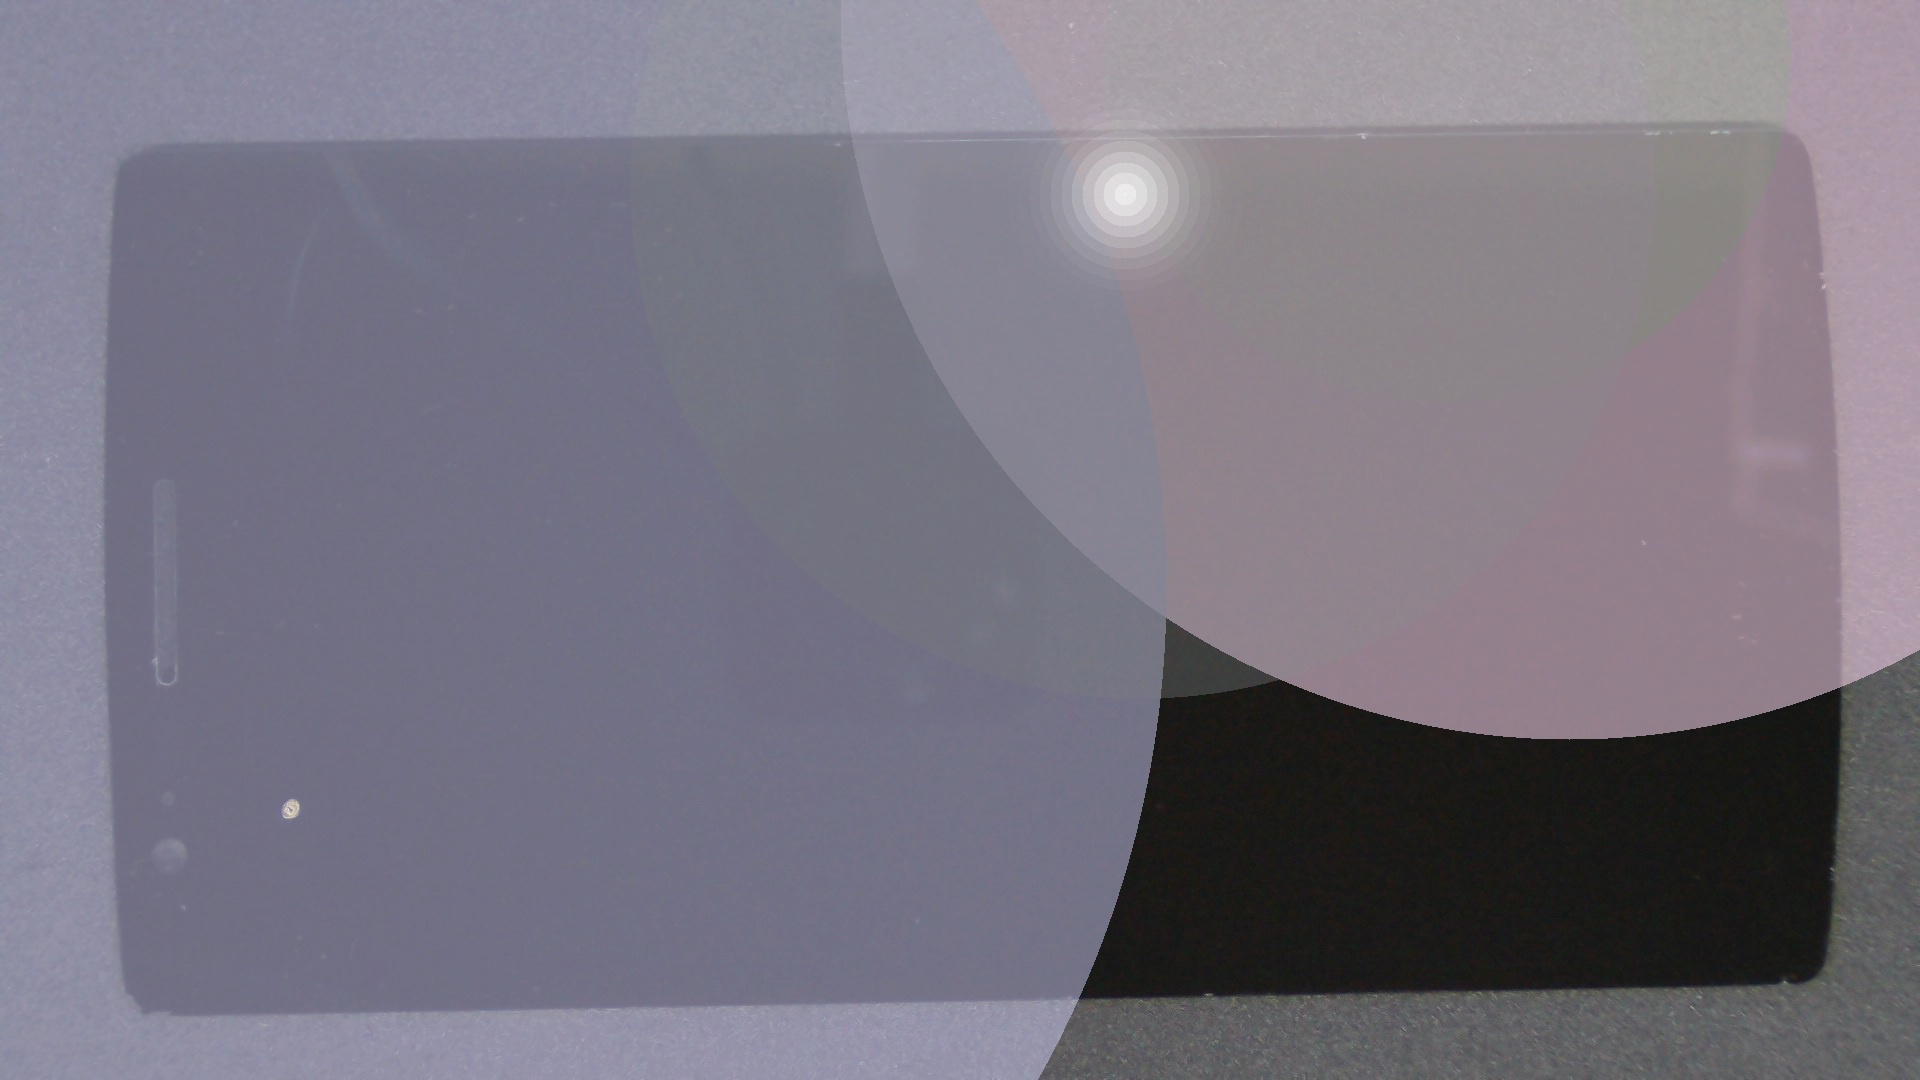oil: (145, 397, 430, 1080)
